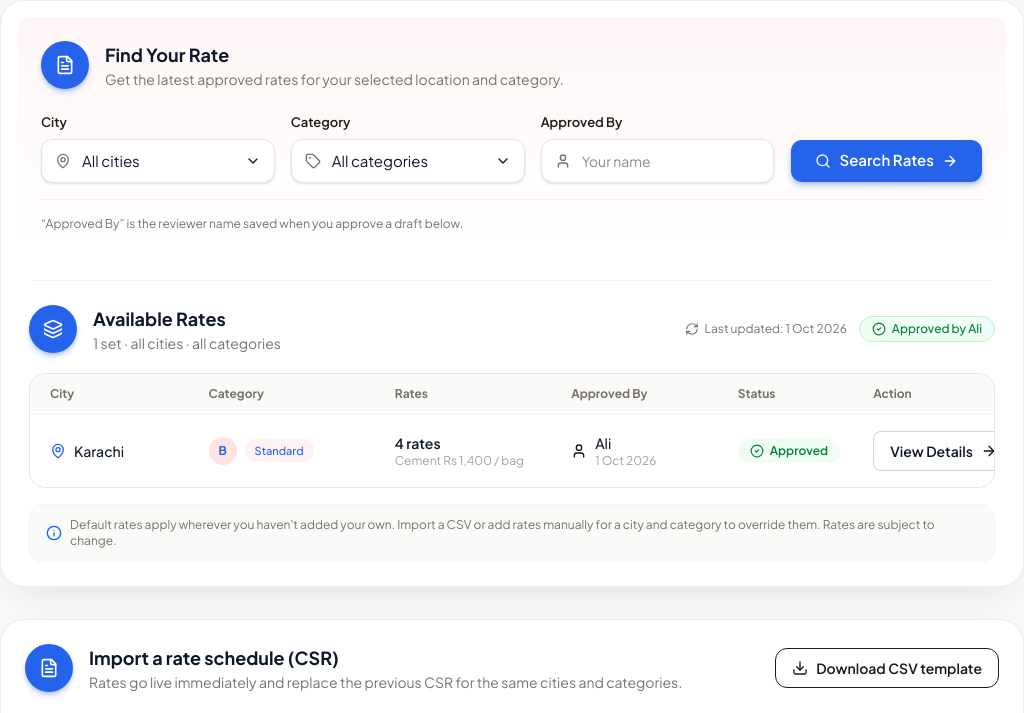
Scenario: RateSetReviewPanel: approved rates › expands a row to show each rate and its source
Click the button "View Details". click: (944, 450)
box: x1=873 y1=430 x2=1014 y2=470
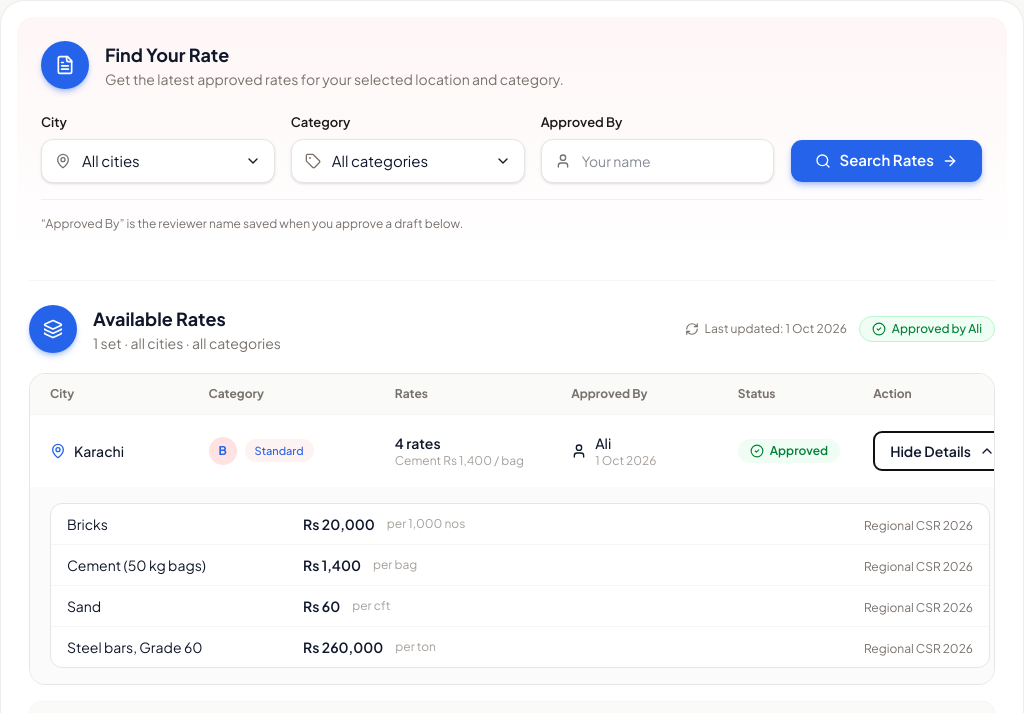
Expected: the text "Cement (50 kg bags)" is shown, x1=67 y1=556 x2=206 y2=574
Expected: the text "Regional CSR 2026" in the row of "1,000 nos" is shown, x1=864 y1=518 x2=973 y2=532
Click the button "Hide Details". click: (943, 450)
box: x1=873 y1=430 x2=1012 y2=470
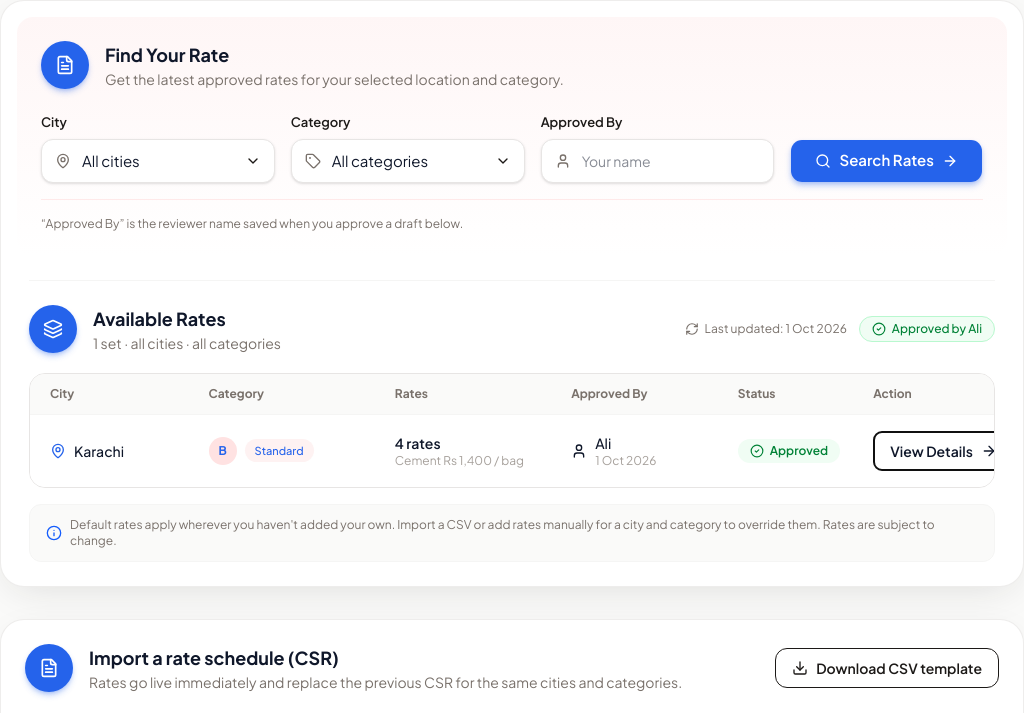
Expected: the text "Cement (50 kg bags)" is gone
